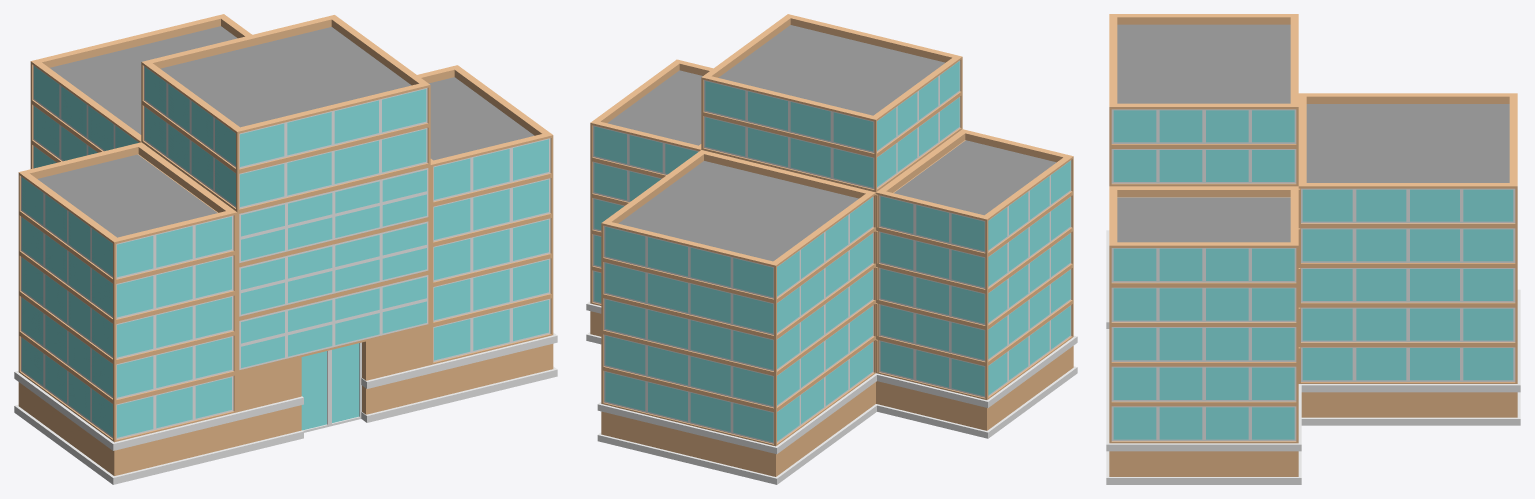
The model's file is SM_House_14_01.FBX.
The picture shows the model from 3 angles, left to right: view 1: azimuth 30°, elevation 25°; view 2: azimuth 150°, elevation 25°; view 3: azimuth 270°, elevation 25°; orthographic projection. The views are drawn at different scales.
Visible parts, largest first — view 1: SM_House_14_01; view 2: SM_House_14_01; view 3: SM_House_14_01.
Part boxes in pixels (<box>): SM_House_14_01: <box>14,14,557,484</box>; SM_House_14_01: <box>586,14,1077,484</box>; SM_House_14_01: <box>1106,14,1520,484</box>.
Bounding box in the file's own units: 11.59 × 8 × 9.47.
1 material, 1 textured.
